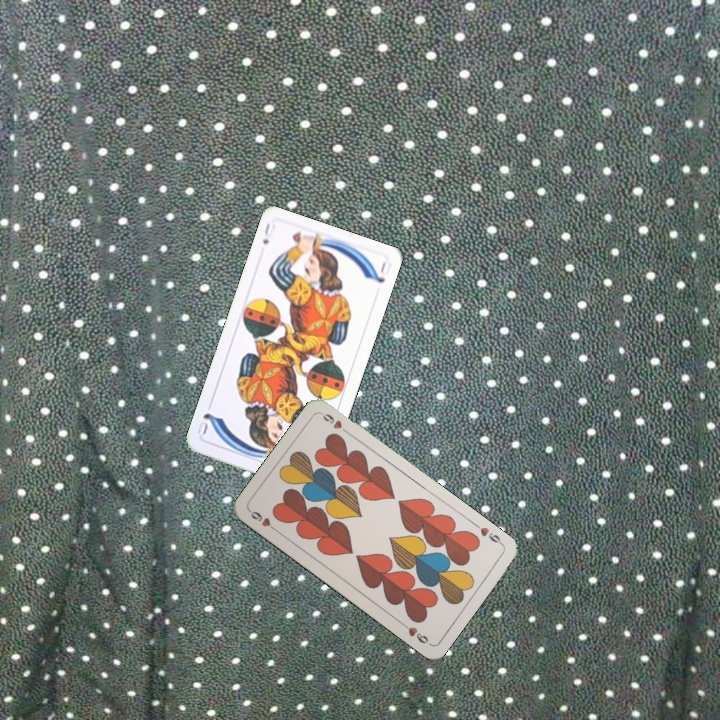H9: (470, 519, 506, 548), (246, 506, 281, 535)
SU: (258, 219, 278, 247)
